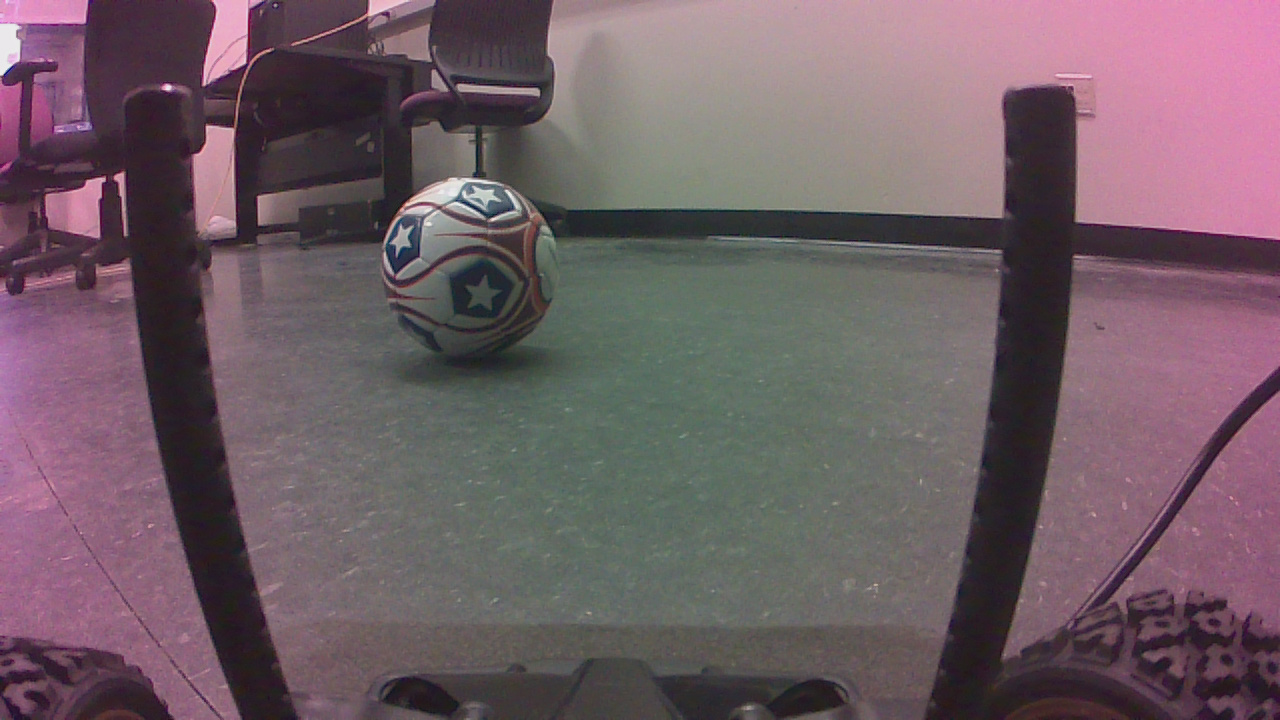ball: (386, 180, 565, 362)
